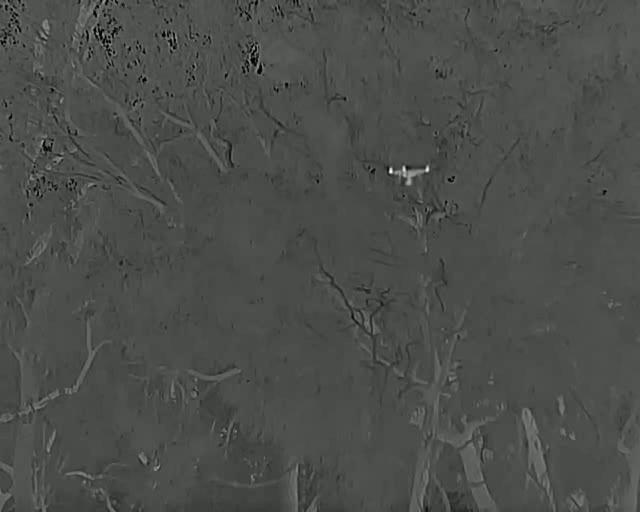DJI-Phantom: (387, 164, 432, 186)
